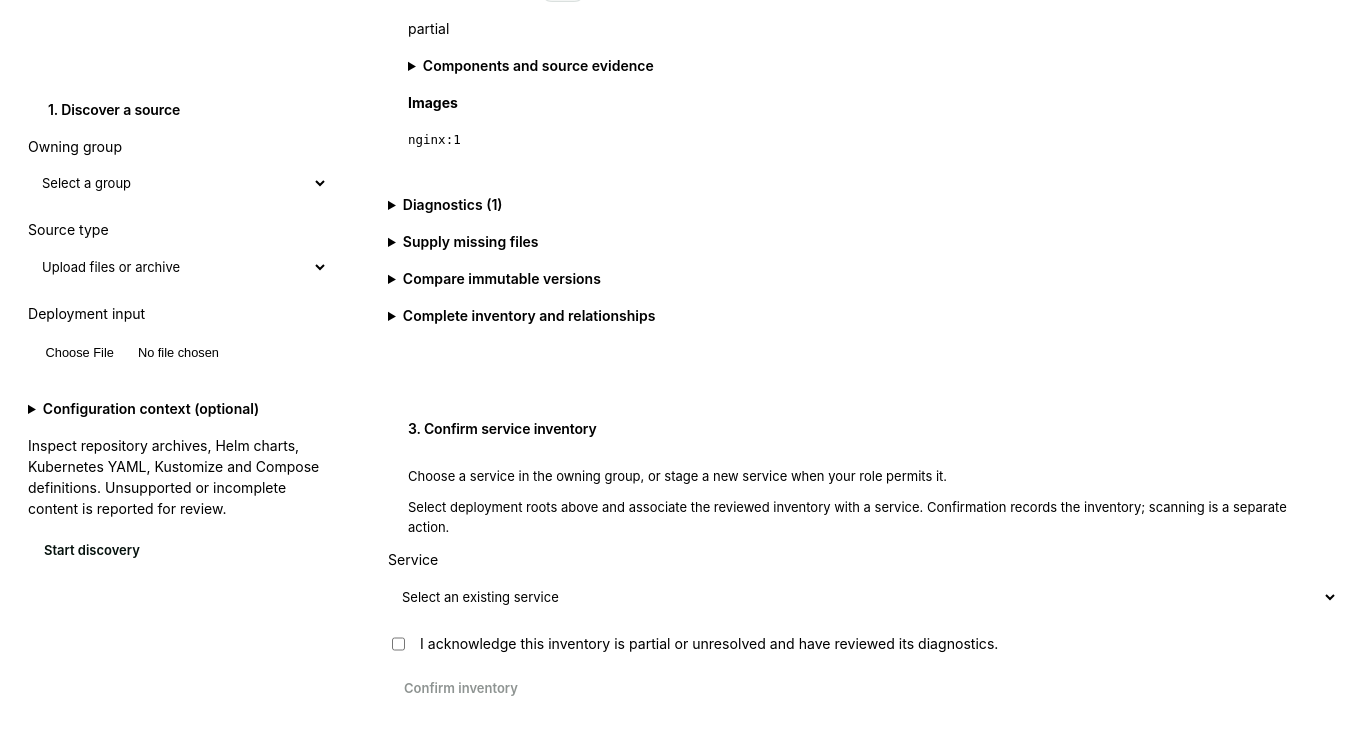
offers service staging only with group authority and sends one owner through confirmation
(page scrolled)
Expected: the text "nginx:1" is shown, top-left (408, 132), bottom-right (461, 147)
Select "Stage a new service" in the dropdown labelled "Service" at (863, 597), box top-left (388, 577), bottom-right (1338, 617)
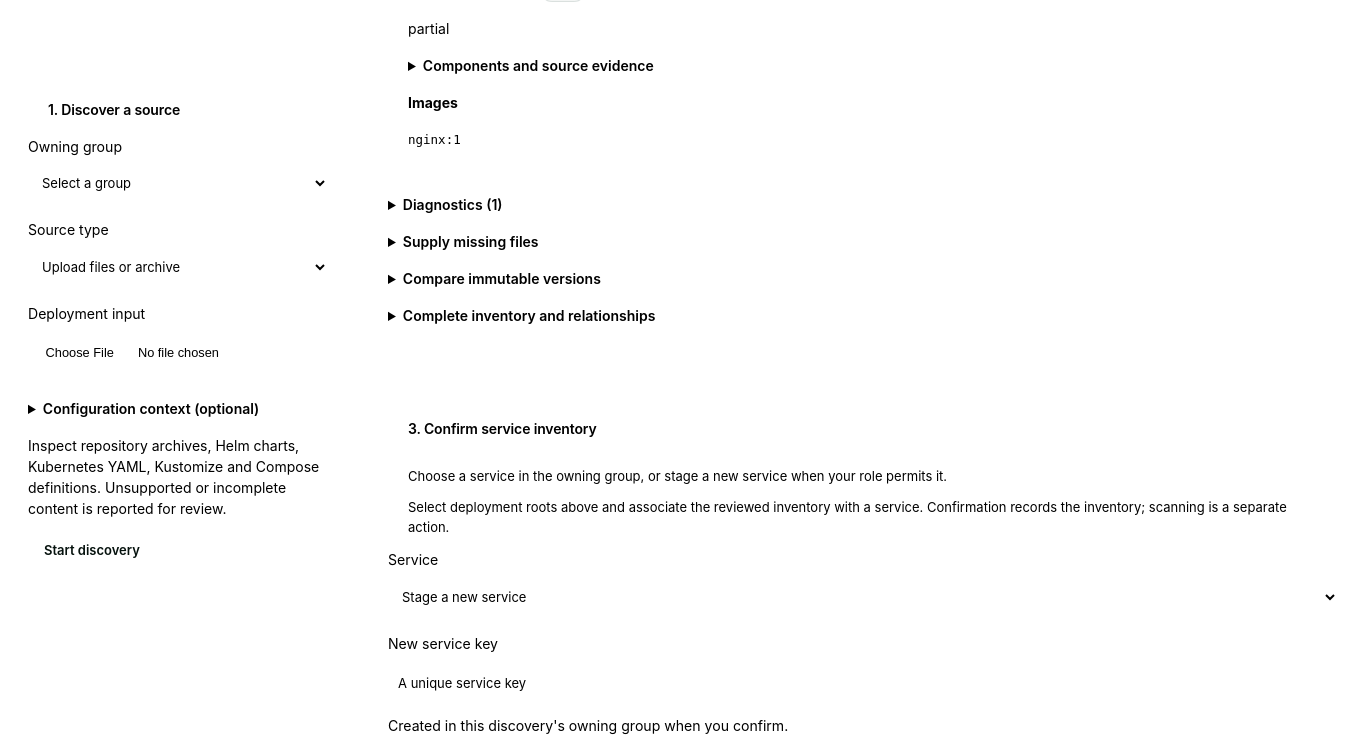
Type "new-service" into the field labelled "New service key" at (873, 684), box top-left (388, 660), bottom-right (1358, 708)
(page scrolled)
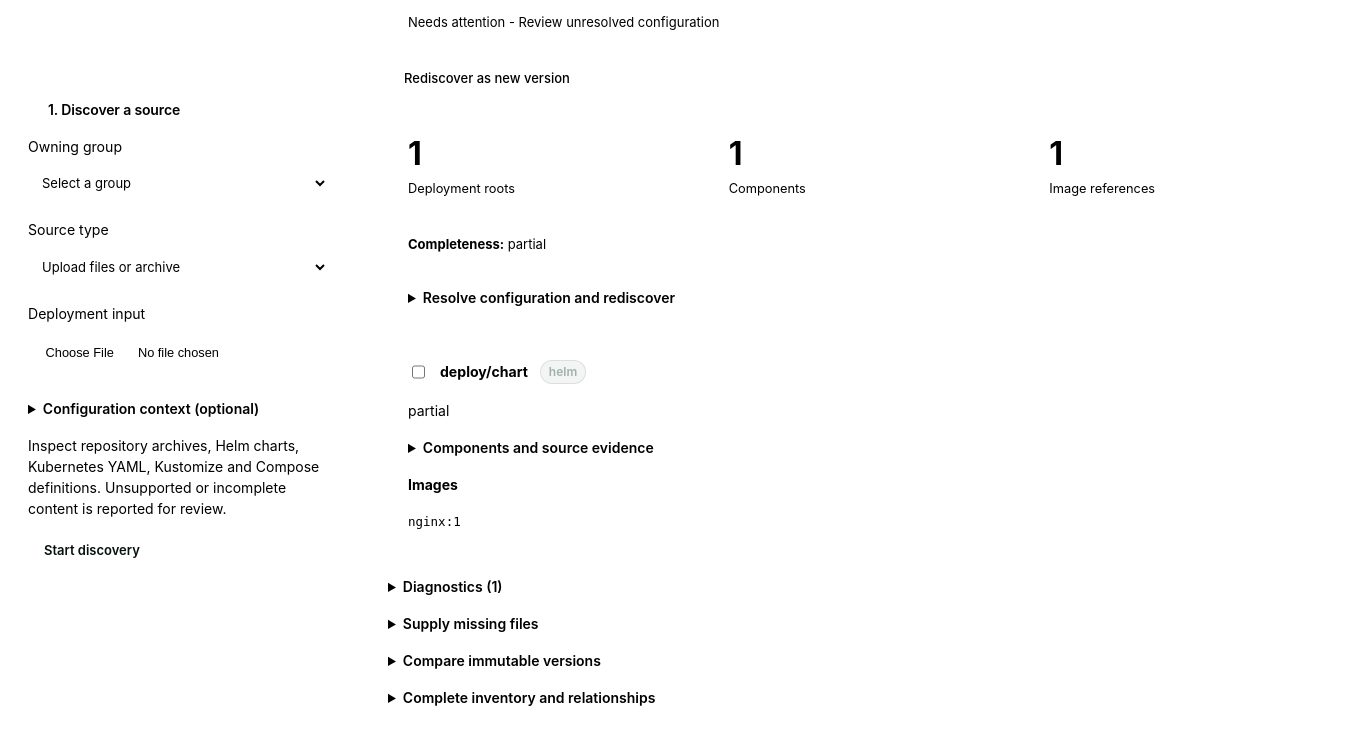
Click the checkbox labelled "deploy/chart helm" at (418, 372), box top-left (412, 364), bottom-right (425, 380)
(page scrolled)
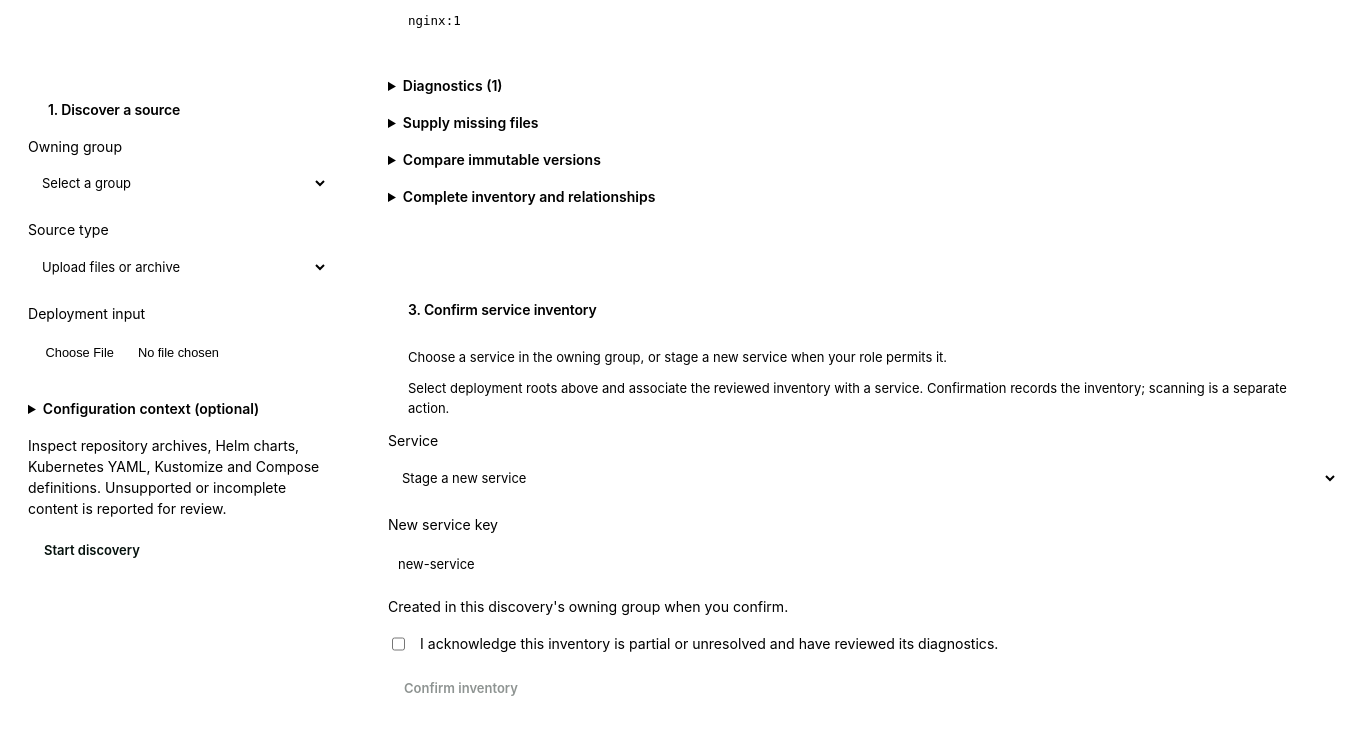
Click the checkbox labelled "I acknowledge" at (398, 644), box top-left (392, 636), bottom-right (405, 652)
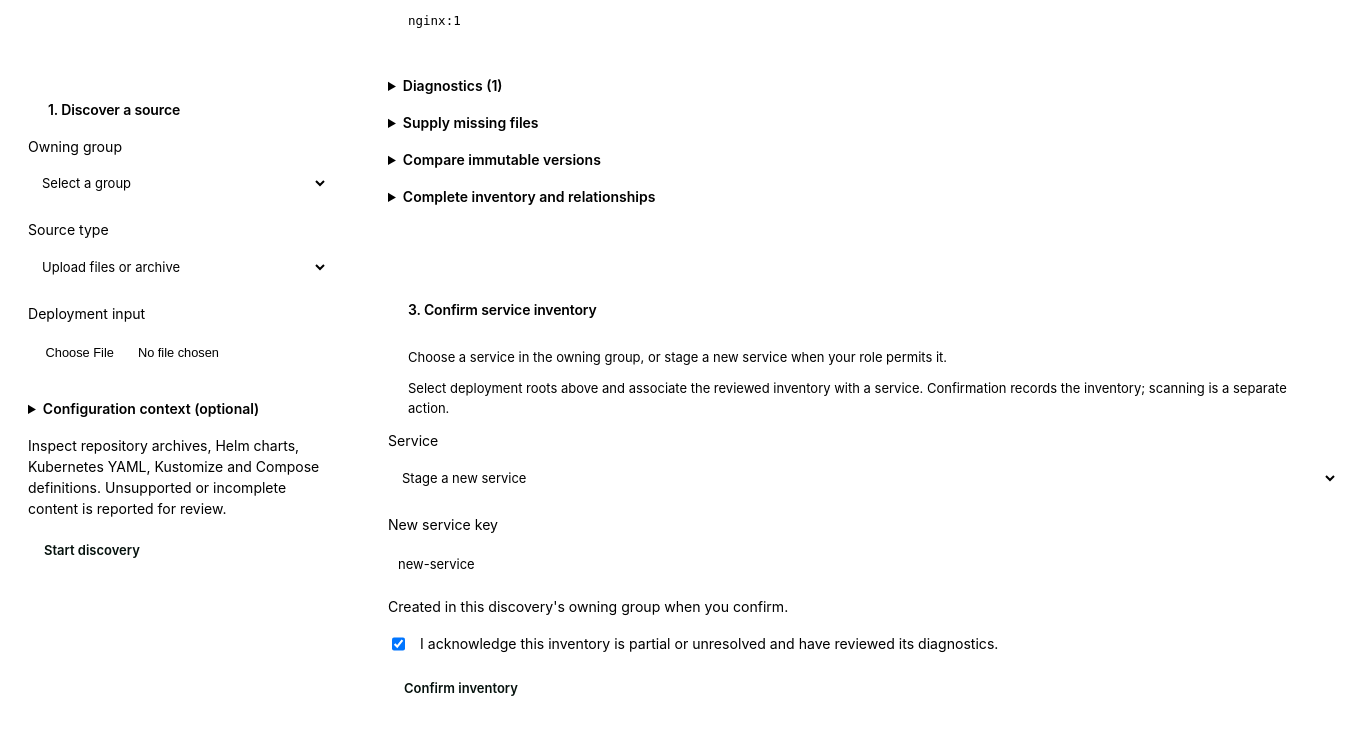
Click the button "Confirm inventory" at (461, 689), box top-left (388, 671), bottom-right (534, 707)
(page scrolled)
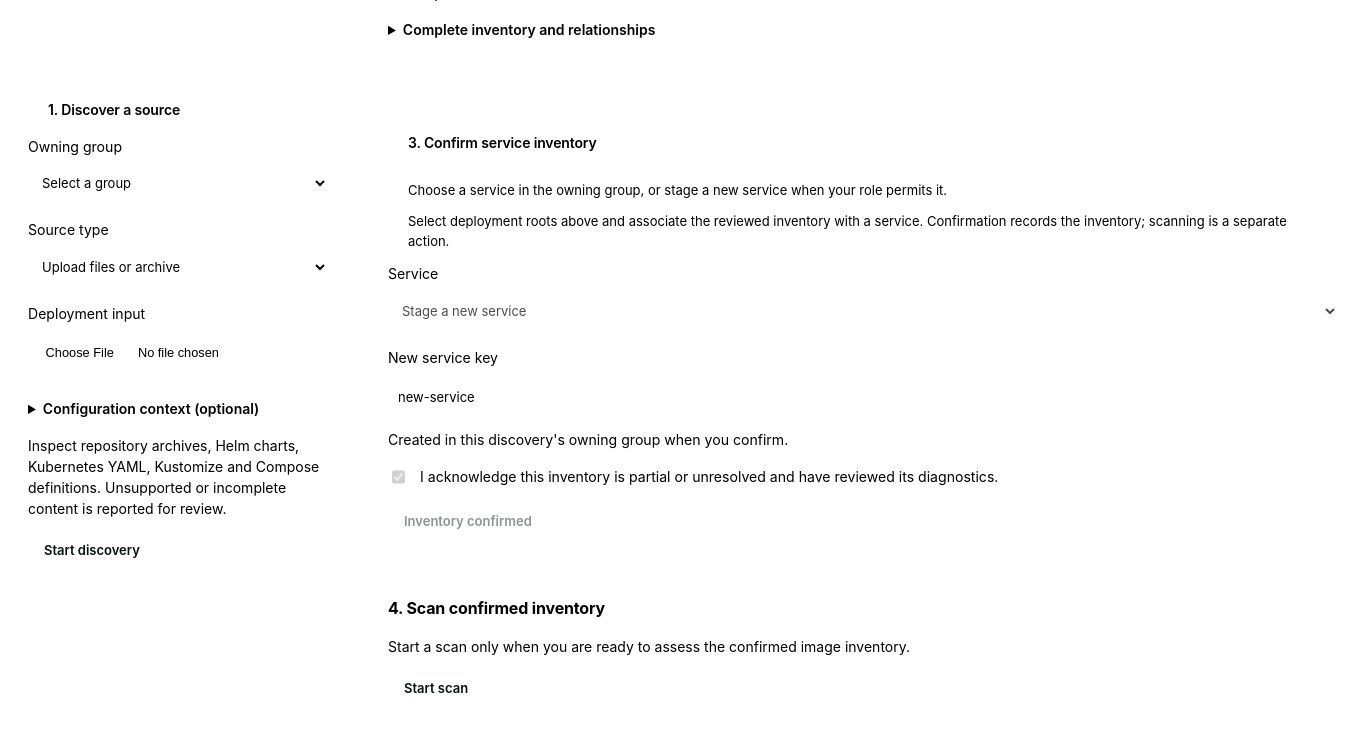
Result: the button "Start scan" is shown at top-left (388, 671), bottom-right (484, 707)
